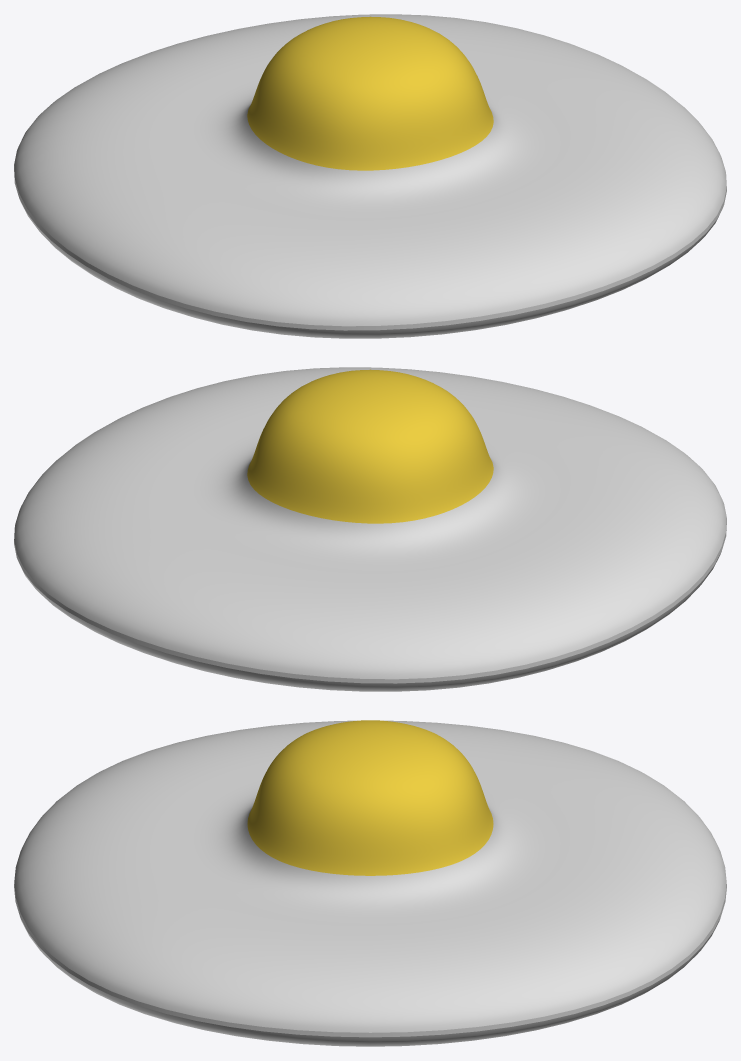
File: egger.fbx
3 renders of one model, top to bottom at view 1: azimuth 30°, elevation 25°; view 2: azimuth 150°, elevation 25°; view 3: azimuth 270°, elevation 25°, orthographic.
Parts seen in each view (by area): view 1: Cube; view 2: Cube; view 3: Cube.
Part boxes in pixels (x1,y1,x2,y2): Cube: [14, 14, 726, 338]; Cube: [14, 367, 726, 691]; Cube: [14, 720, 726, 1046].
Size of the model in its own units: 20 by 6 by 20.
